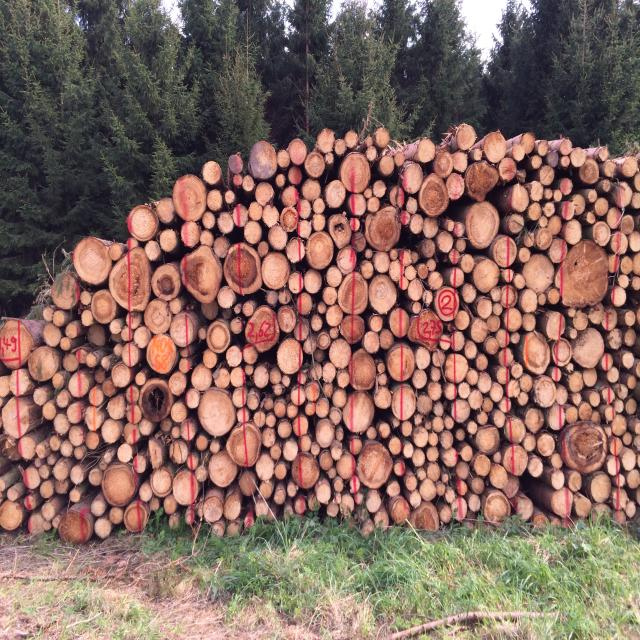wood-log: (556, 240, 611, 308), (112, 245, 155, 312), (182, 244, 222, 304), (560, 422, 606, 474), (225, 244, 262, 296), (74, 238, 114, 286), (198, 388, 236, 438), (0, 319, 35, 369), (244, 306, 281, 353), (358, 441, 394, 489), (463, 201, 499, 248), (172, 176, 208, 223), (138, 378, 174, 424), (227, 424, 263, 468), (102, 463, 138, 506), (367, 208, 402, 252), (342, 392, 375, 435), (408, 311, 444, 350), (573, 328, 606, 369), (418, 175, 449, 218), (467, 160, 500, 200), (340, 153, 372, 193), (521, 332, 550, 376), (57, 509, 92, 544), (1, 398, 30, 440), (522, 254, 554, 292), (127, 203, 159, 241), (146, 334, 177, 373), (368, 274, 399, 313), (348, 352, 378, 392), (306, 231, 336, 269), (248, 142, 278, 180), (386, 342, 416, 380), (52, 266, 79, 308), (207, 450, 238, 486), (262, 253, 291, 291), (30, 345, 60, 381), (292, 452, 320, 488), (277, 338, 305, 374), (482, 490, 511, 524), (144, 300, 172, 334), (391, 385, 416, 422), (473, 260, 500, 294), (153, 265, 180, 299), (172, 471, 198, 506), (435, 288, 461, 322), (169, 314, 195, 348), (503, 445, 530, 477), (491, 235, 518, 267), (401, 162, 427, 195), (340, 314, 368, 344), (412, 502, 440, 532), (544, 314, 572, 344), (474, 426, 502, 455), (126, 500, 151, 532), (445, 353, 471, 383), (484, 131, 509, 162), (92, 292, 116, 324), (549, 486, 573, 518), (328, 214, 350, 248), (508, 181, 532, 212), (207, 322, 230, 354), (388, 306, 411, 338), (534, 375, 556, 408), (0, 499, 24, 529), (116, 340, 141, 368), (589, 472, 612, 502), (611, 179, 634, 209), (103, 407, 125, 438), (337, 245, 362, 272), (330, 339, 352, 369), (456, 124, 478, 153), (326, 180, 348, 209), (180, 220, 203, 247), (306, 152, 329, 179), (579, 158, 601, 186), (153, 468, 175, 496), (202, 495, 224, 523), (86, 322, 110, 347), (549, 238, 571, 265), (506, 416, 527, 444), (336, 453, 356, 482), (489, 466, 512, 491), (10, 368, 29, 398), (101, 419, 123, 444), (32, 384, 54, 409), (68, 372, 89, 398), (203, 161, 224, 187), (105, 395, 126, 421), (524, 406, 544, 433), (225, 490, 243, 520), (446, 173, 466, 200), (313, 480, 332, 508), (191, 366, 212, 391), (469, 317, 490, 342), (238, 470, 258, 496), (168, 370, 188, 396), (111, 362, 131, 388), (269, 225, 289, 251), (255, 452, 274, 479), (148, 437, 164, 469), (562, 219, 583, 243), (303, 270, 324, 294), (217, 285, 238, 309), (536, 433, 556, 458), (418, 137, 438, 162), (288, 138, 308, 163), (41, 324, 61, 348), (256, 181, 276, 205), (22, 466, 42, 490), (169, 440, 189, 464), (593, 222, 612, 247), (452, 397, 471, 422), (123, 421, 142, 446), (498, 158, 516, 184), (548, 405, 565, 432), (623, 251, 640, 278), (244, 220, 263, 244), (200, 298, 219, 322), (520, 288, 538, 313), (505, 307, 523, 332), (438, 231, 457, 254), (379, 328, 398, 351), (298, 291, 316, 315), (18, 436, 36, 460), (160, 230, 179, 252), (555, 176, 574, 198), (507, 213, 526, 235), (302, 178, 321, 200), (282, 440, 300, 463), (379, 155, 396, 179), (94, 518, 112, 540), (475, 454, 493, 476), (86, 408, 104, 430), (134, 327, 152, 349), (28, 514, 46, 536), (502, 472, 518, 496), (538, 166, 556, 187), (608, 207, 625, 229), (171, 401, 188, 423), (143, 241, 161, 261), (93, 495, 111, 515), (183, 388, 200, 409), (422, 215, 439, 236), (52, 461, 69, 482), (180, 420, 197, 441), (56, 414, 72, 436), (116, 443, 134, 462), (571, 149, 589, 168), (132, 454, 149, 474), (227, 345, 243, 366), (126, 404, 142, 425), (468, 386, 483, 408), (62, 353, 79, 372), (203, 349, 220, 368), (455, 150, 469, 173), (42, 402, 58, 422), (40, 502, 56, 522), (88, 387, 104, 407), (566, 471, 581, 492), (163, 494, 178, 515), (528, 455, 543, 476), (288, 166, 305, 184), (69, 425, 86, 443), (84, 431, 100, 450), (594, 197, 609, 217), (70, 464, 84, 485), (277, 419, 294, 436), (124, 386, 140, 404), (88, 468, 103, 487), (627, 469, 640, 490), (40, 479, 54, 498), (139, 483, 153, 502), (606, 456, 619, 476), (102, 380, 117, 397), (54, 372, 68, 390), (274, 462, 288, 480), (584, 368, 598, 386), (58, 390, 71, 409), (259, 481, 272, 500), (109, 508, 124, 524), (0, 374, 10, 398), (81, 309, 94, 327), (54, 479, 69, 494), (23, 494, 37, 510), (168, 515, 182, 531), (255, 502, 269, 518), (60, 440, 73, 457), (75, 347, 88, 364), (195, 465, 208, 482), (49, 434, 61, 452), (196, 434, 208, 452), (60, 336, 74, 351), (52, 310, 65, 326), (65, 322, 78, 338), (109, 318, 122, 334), (42, 305, 54, 322), (186, 454, 198, 471), (599, 178, 611, 194), (530, 155, 542, 171), (80, 290, 92, 306), (85, 352, 97, 368), (120, 325, 132, 341), (212, 522, 224, 538), (631, 232, 640, 252), (6, 487, 18, 502), (178, 358, 190, 373), (69, 489, 81, 503), (39, 464, 50, 479), (94, 368, 105, 383), (135, 372, 146, 386), (149, 497, 159, 512), (632, 192, 640, 210), (244, 516, 254, 530), (634, 170, 640, 192), (179, 346, 190, 358), (46, 453, 56, 466), (74, 446, 84, 459), (98, 458, 108, 471), (210, 441, 220, 454), (184, 513, 194, 525), (198, 326, 206, 341), (103, 451, 112, 464), (42, 521, 52, 531), (52, 517, 60, 529), (0, 477, 6, 492), (34, 458, 42, 468)
